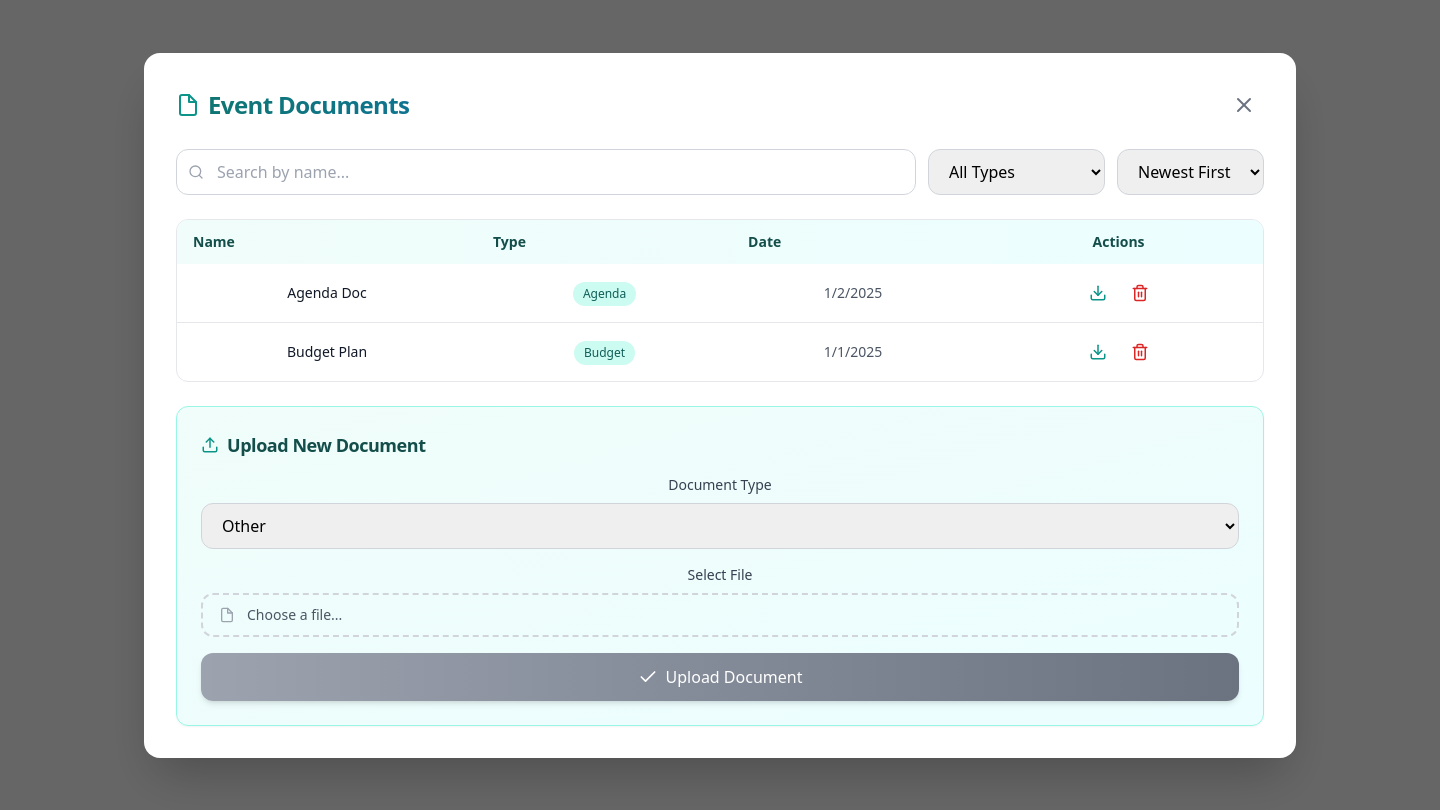
Test: DocumentsModal › filters documents by name
The width and height of the screenshot is (1440, 810).
Expected: the text "Budget Plan" is shown, 177,322 -> 477,380
Type "Budget" into the field with placeholder "Search by name...".
click(546, 172); type("Budget")  # box 176,148 -> 916,194
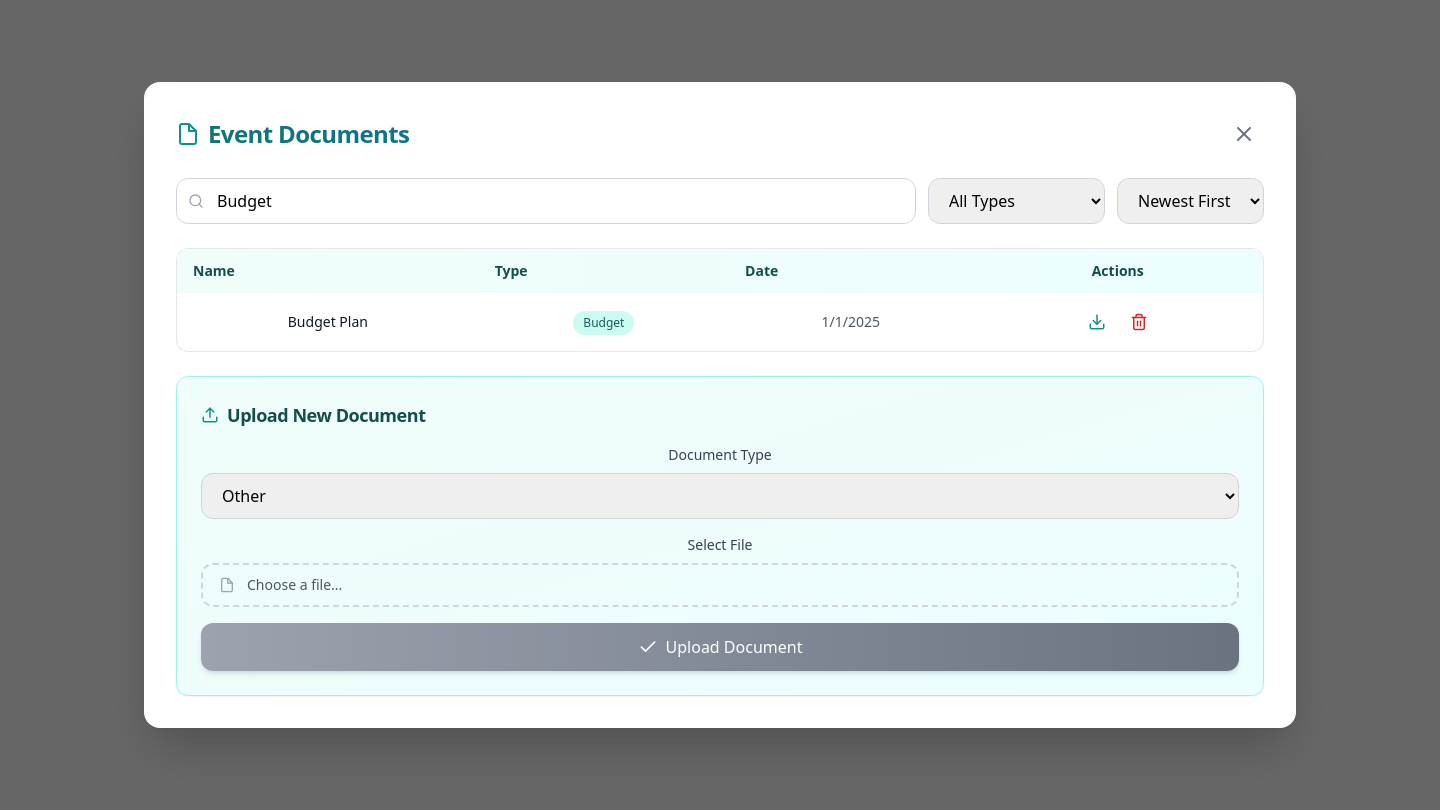
Expected: the text "Budget Plan" is shown, 177,293 -> 479,351
Expected: the text "Agenda Doc" is gone
